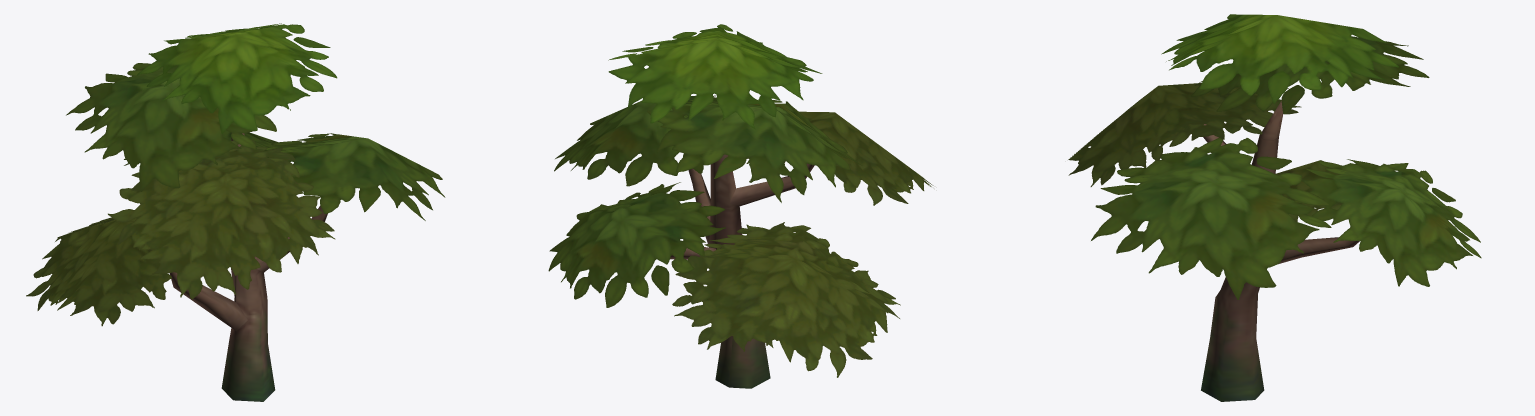
Rendered from Moba_tree02.FBX.
The picture shows the model from 3 angles, left to right: view 1: azimuth 30°, elevation 25°; view 2: azimuth 150°, elevation 25°; view 3: azimuth 270°, elevation 25°; orthographic projection. The views are drawn at different scales.
Visible parts, largest first — view 1: Moba_tree02; view 2: Moba_tree02; view 3: Moba_tree02.
Boxes of the visible parts, bbox=[...] form: Moba_tree02: bbox=[26, 23, 445, 401]; Moba_tree02: bbox=[548, 24, 933, 388]; Moba_tree02: bbox=[1068, 14, 1481, 401].
Size of the model in its own units: 6.57 by 6.04 by 4.93.
